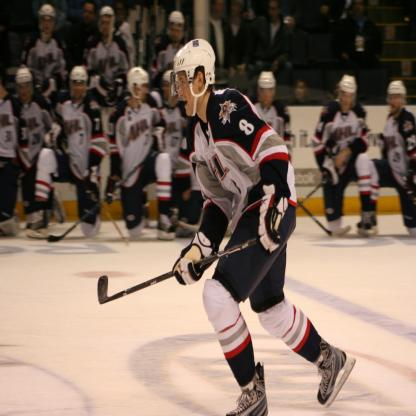Helmet: (169, 33, 217, 110), (66, 65, 87, 102), (127, 66, 150, 99), (386, 78, 408, 112), (256, 70, 277, 104), (15, 65, 33, 104), (38, 4, 56, 40), (339, 75, 357, 108), (162, 70, 178, 107), (99, 3, 113, 40), (167, 10, 183, 42)
